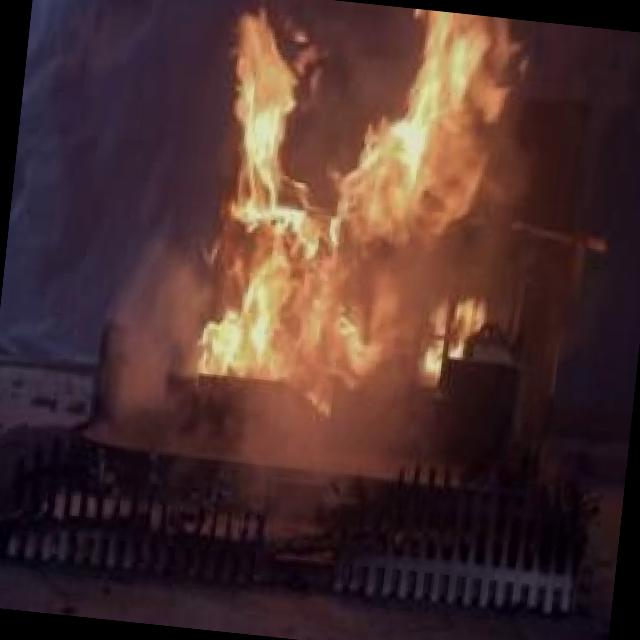fire: (153, 0, 561, 487)
